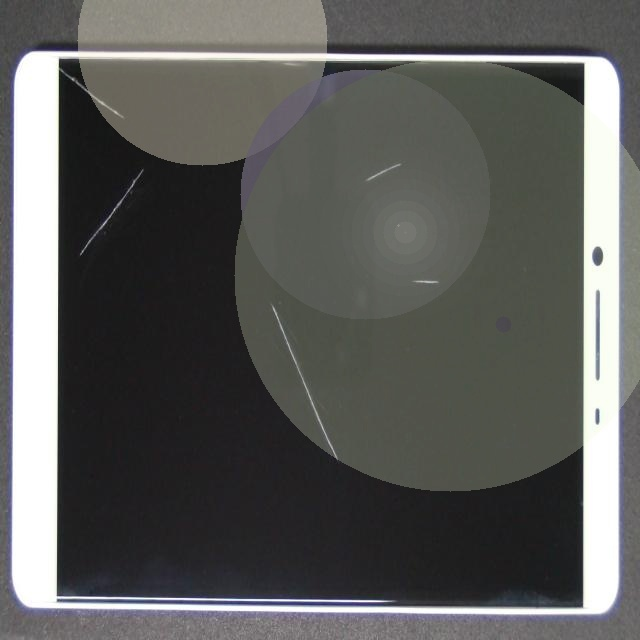scratch: (252, 148, 640, 405), (212, 312, 479, 597), (213, 113, 618, 263), (107, 30, 179, 294), (104, 81, 167, 140)
